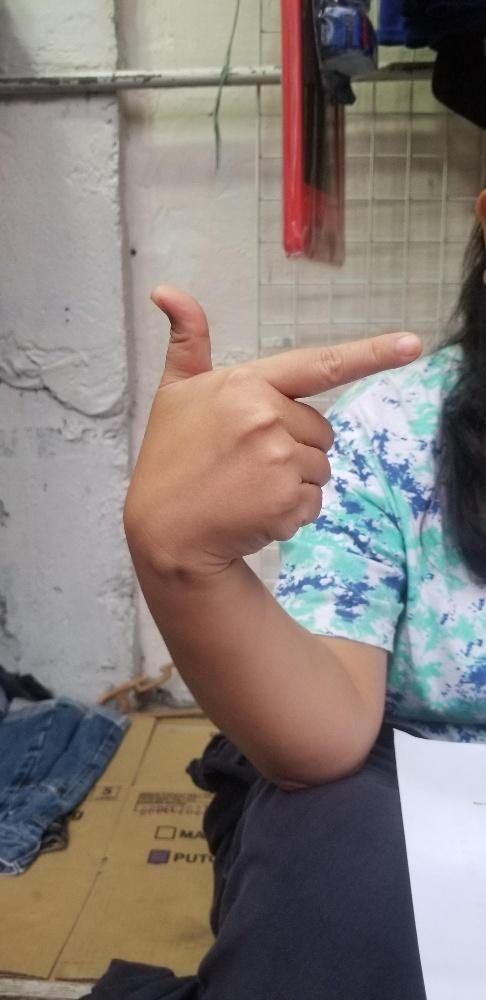g: (145, 284, 421, 554)
